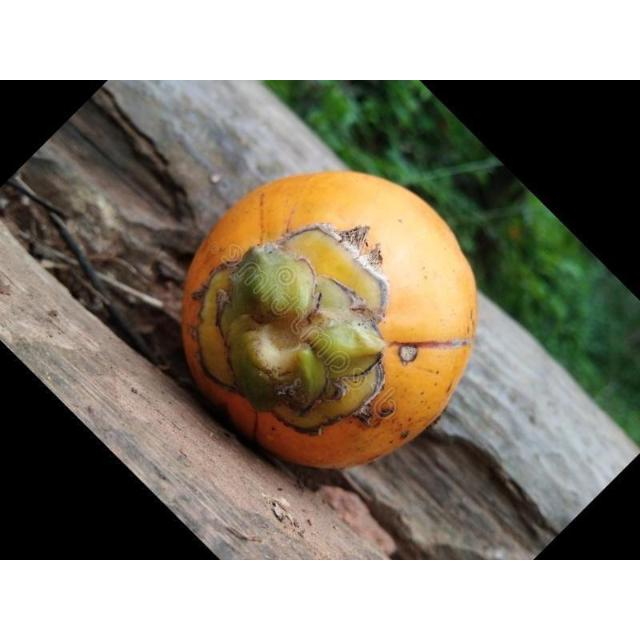good: (179, 171, 479, 472)
